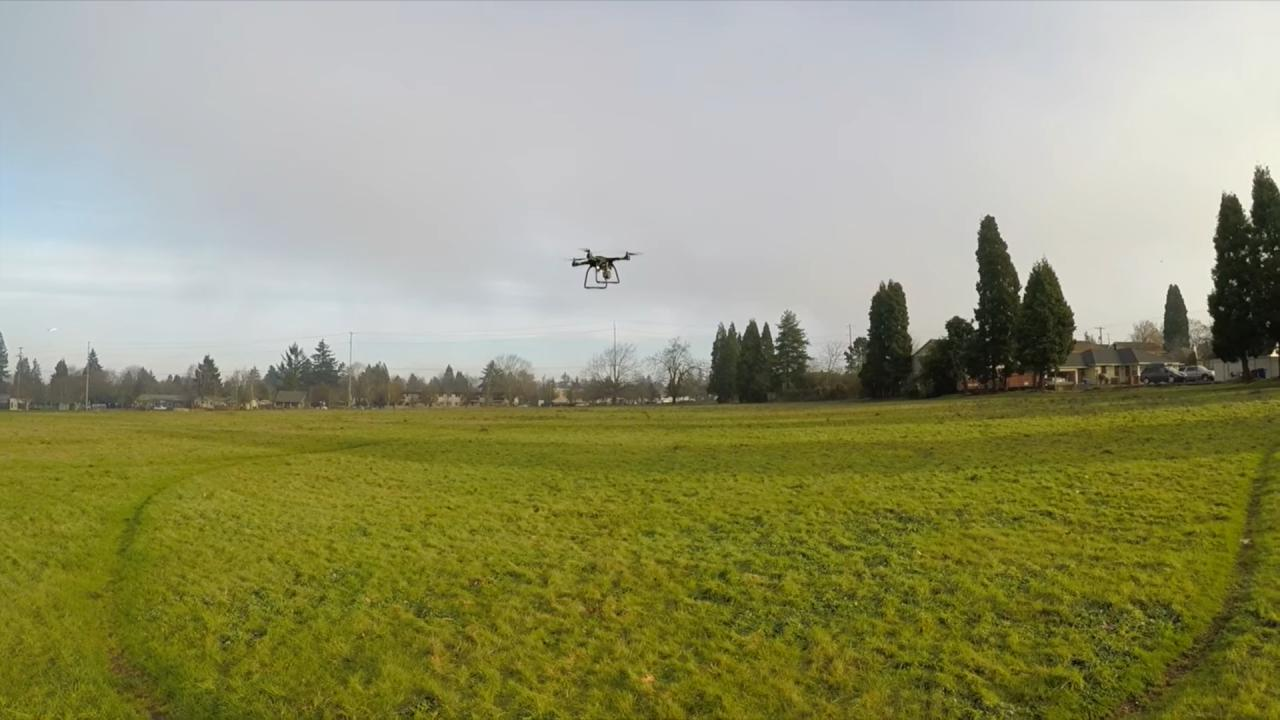Drone: (559, 239, 648, 296)
